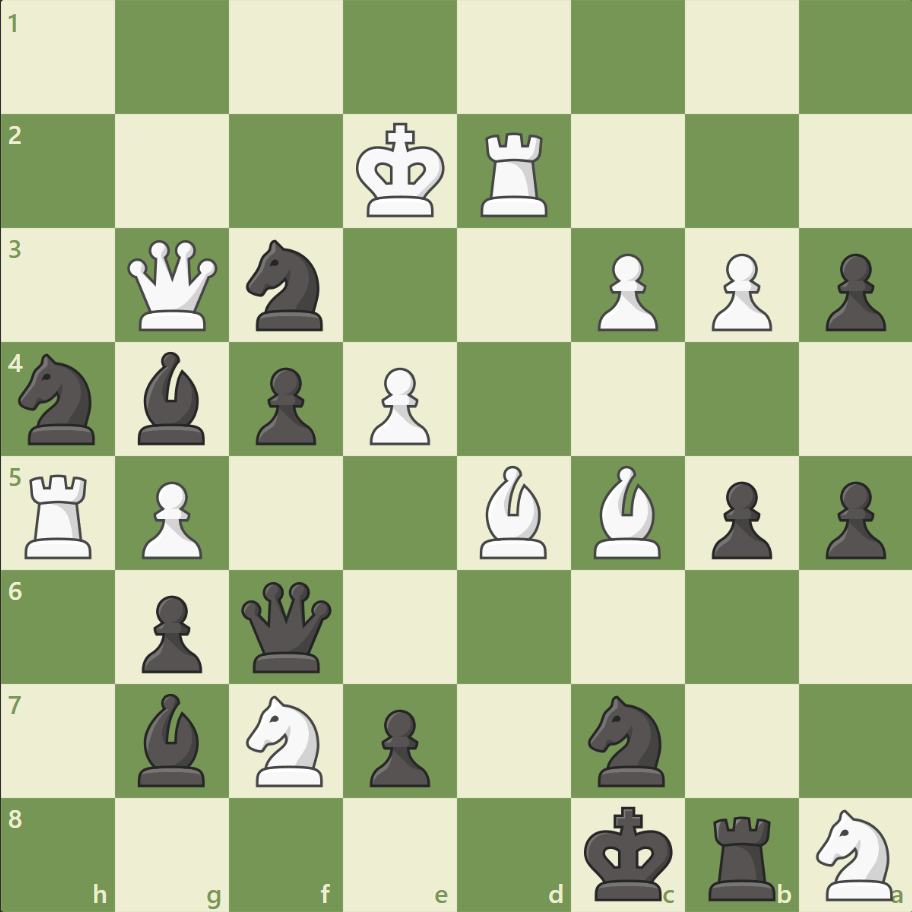B: (585, 460, 669, 563), (471, 460, 555, 563)
K: (351, 117, 451, 225)
N: (238, 688, 335, 791), (806, 802, 903, 904)
P: (133, 473, 208, 564), (701, 246, 776, 337), (361, 359, 435, 450), (588, 246, 662, 337)
Q: (124, 236, 223, 335)
R: (19, 466, 102, 563), (473, 125, 556, 222)
b: (131, 687, 215, 790), (131, 347, 215, 449)
k: (579, 798, 679, 906)
n: (579, 688, 676, 791), (238, 234, 335, 337), (11, 348, 108, 450)
p: (133, 586, 208, 677), (701, 473, 776, 564), (247, 359, 322, 450), (361, 700, 435, 791), (815, 473, 889, 564), (815, 246, 889, 337)
q: (237, 576, 336, 676)
r: (700, 806, 783, 904)
